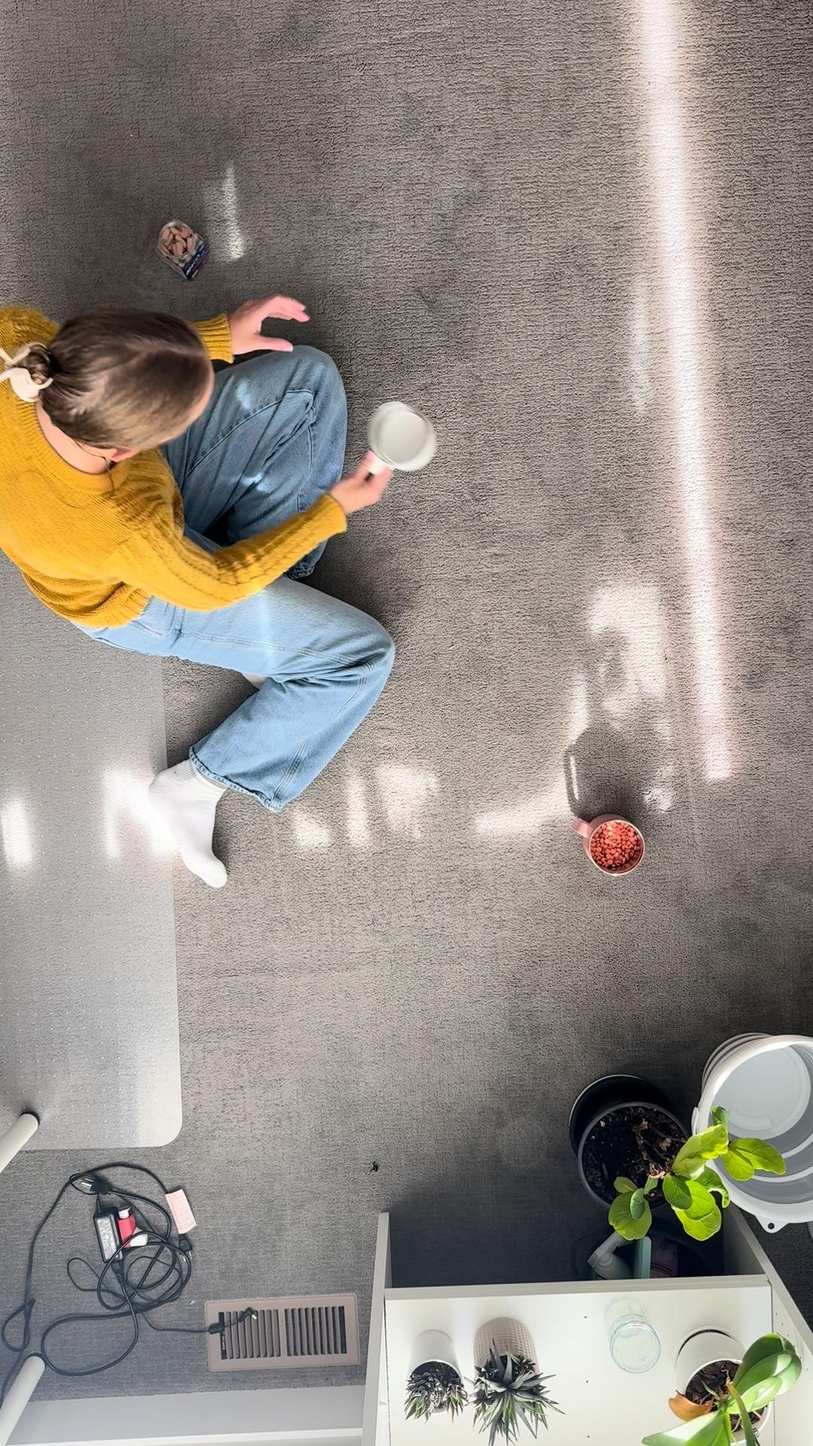IBC: (567, 793, 652, 889), (356, 394, 441, 482)
